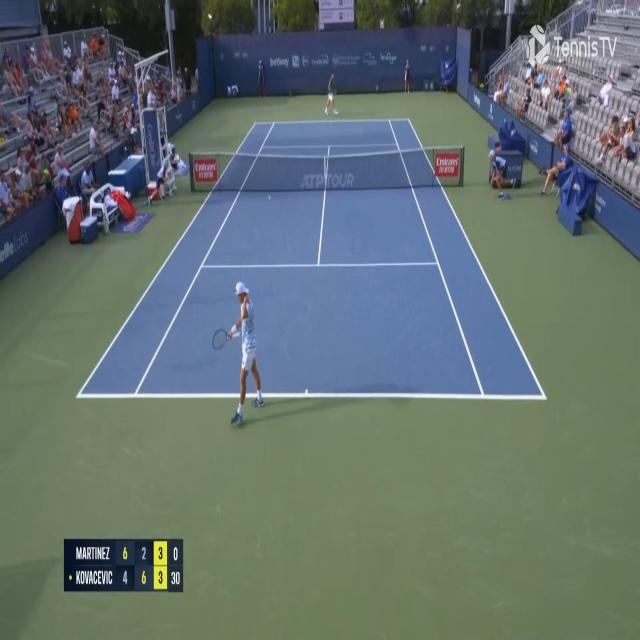tennis-player: (209, 278, 265, 428), (323, 71, 340, 116)
